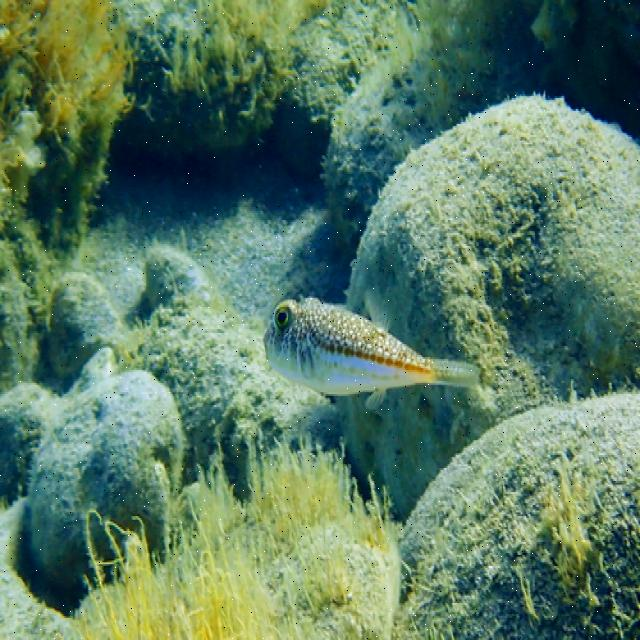Balik: (264, 298, 478, 395)
